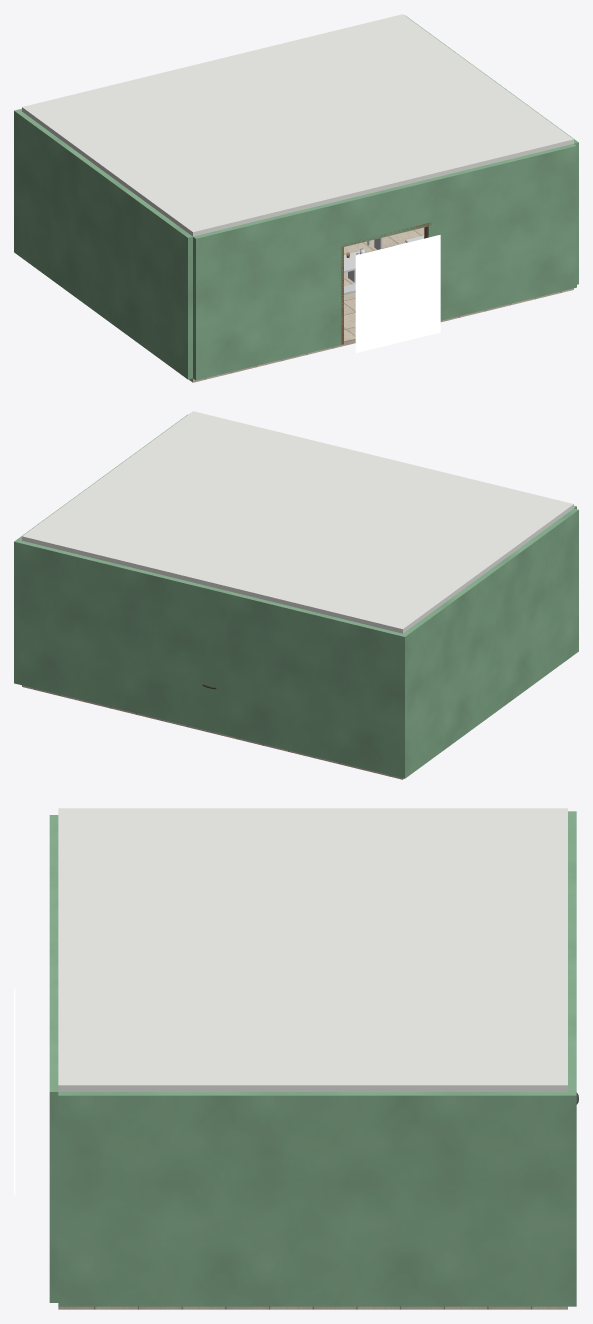
Rendered from room_mess.glb.
3 renders of one model, top to bottom at view 1: azimuth 30°, elevation 25°; view 2: azimuth 150°, elevation 25°; view 3: azimuth 270°, elevation 25°, orthographic. The views are drawn at different scales.
Parts seen in each view (by area): view 1: Room; view 2: Room; view 3: Room.
Part boxes in pixels (x1=…): Room: x1=14, y1=14, x2=578, y2=382; Room: x1=14, y1=411, x2=578, y2=779; Room: x1=14, y1=808, x2=578, y2=1309.
Size of the model in its own units: 9.24 by 3.4 by 7.76.
Materials: 87 (13 with a texture image).
